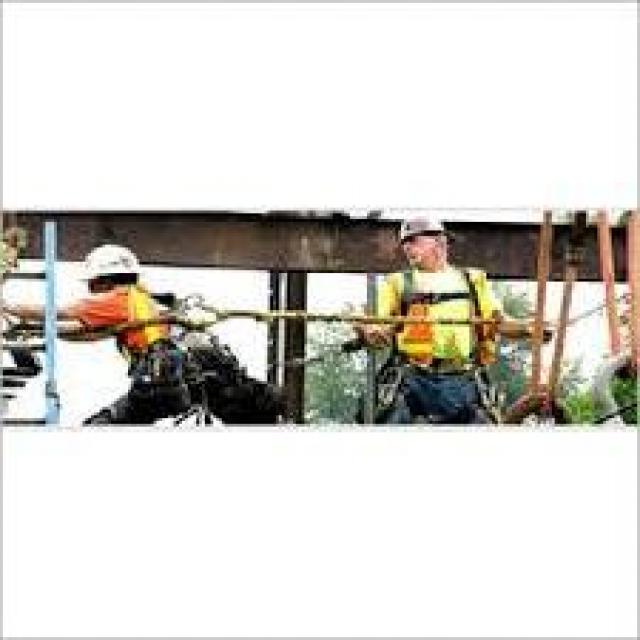Reflective-Jacket: (364, 265, 504, 381), (102, 285, 188, 381)
Safety-Helmet: (68, 236, 151, 287), (387, 208, 458, 253)
